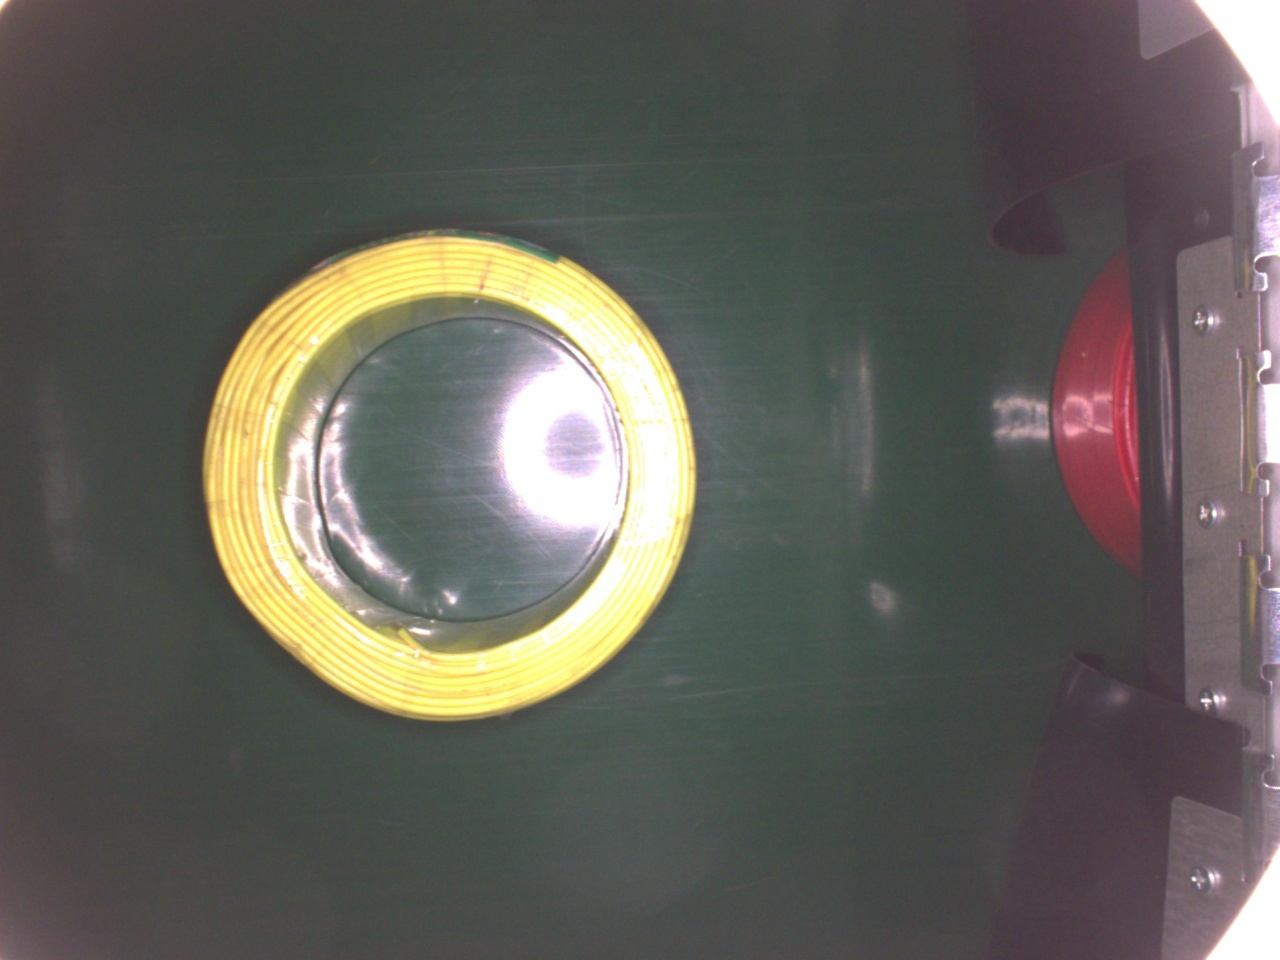yellow: (198, 223, 701, 724)
